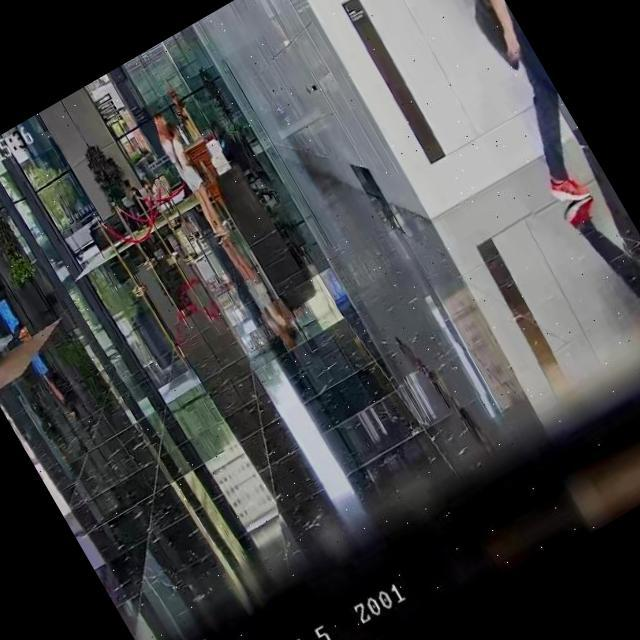person: (389, 0, 612, 214), (146, 109, 236, 242), (0, 245, 33, 343), (206, 116, 254, 183), (122, 176, 150, 213)
